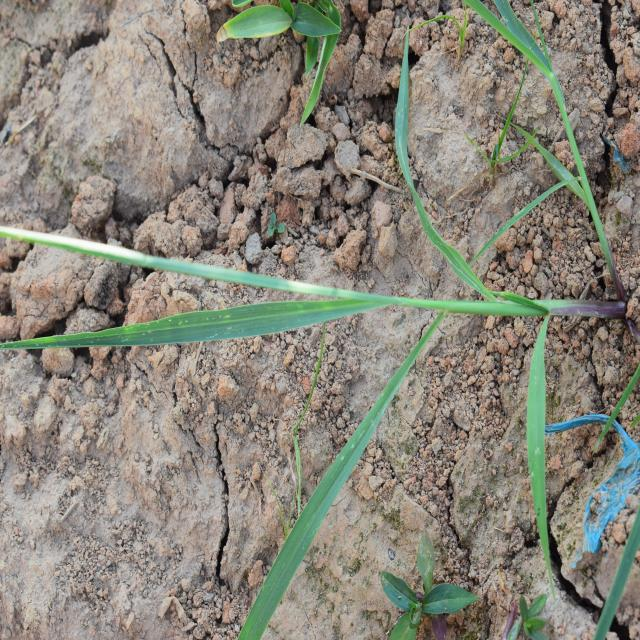green_foxtail: (61, 164, 562, 571)
